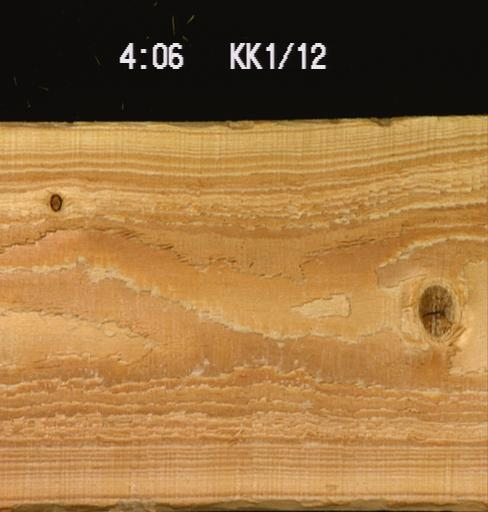dry_knot: (48, 191, 62, 212)
sound_knot: (415, 283, 457, 338)
wave: (0, 496, 487, 511), (150, 119, 264, 130), (0, 119, 101, 128)
